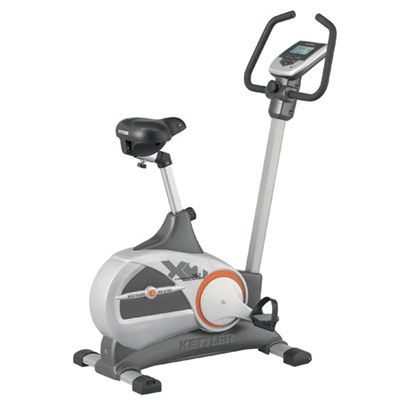gym_bike: (75, 8, 343, 390)
